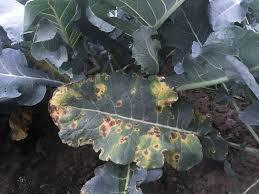Bok-Choy-Diseased: (48, 83, 174, 154)
